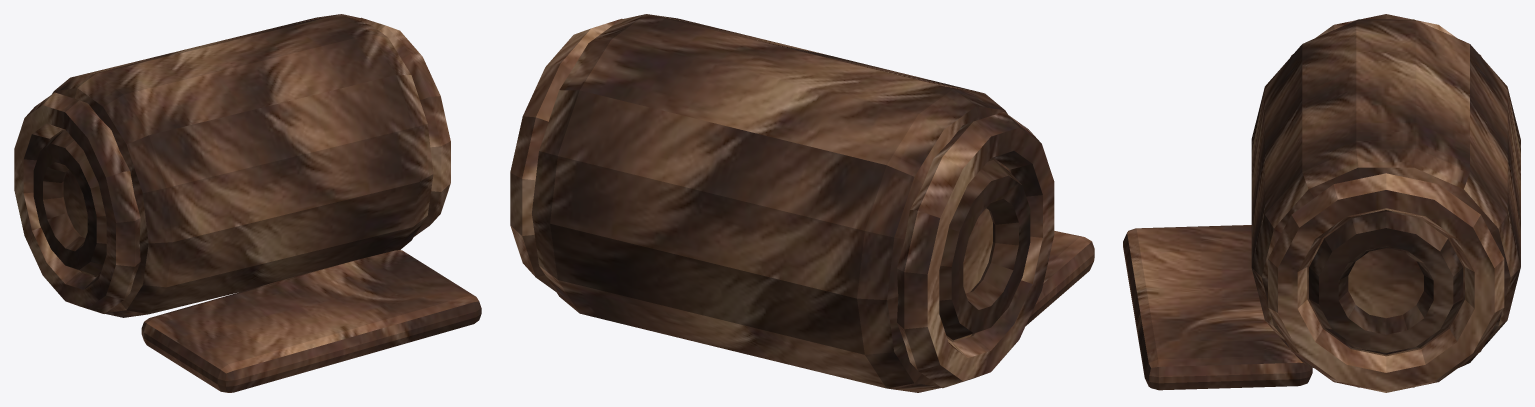
Rendered from critter_hide.glb.
3 renders of one model, left to right at view 1: azimuth 30°, elevation 25°; view 2: azimuth 150°, elevation 25°; view 3: azimuth 270°, elevation 25°, orthographic. The views are drawn at different scales.
Parts seen in each view (by area): view 1: model; view 2: model; view 3: model.
Part boxes in pixels (left/top/right/bottom): model: left=14, top=14, right=481, bottom=392; model: left=510, top=14, right=1094, bottom=392; model: left=1123, top=14, right=1520, bottom=392.
Size of the model in its own units: 0.2448 by 0.156 by 0.2363.
Materials: 3 (3 with a texture image).
